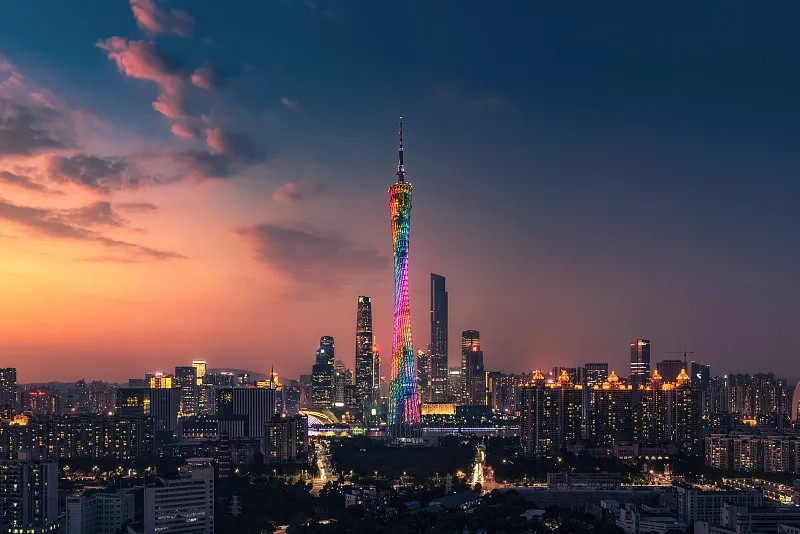Canton: (386, 114, 422, 446)
